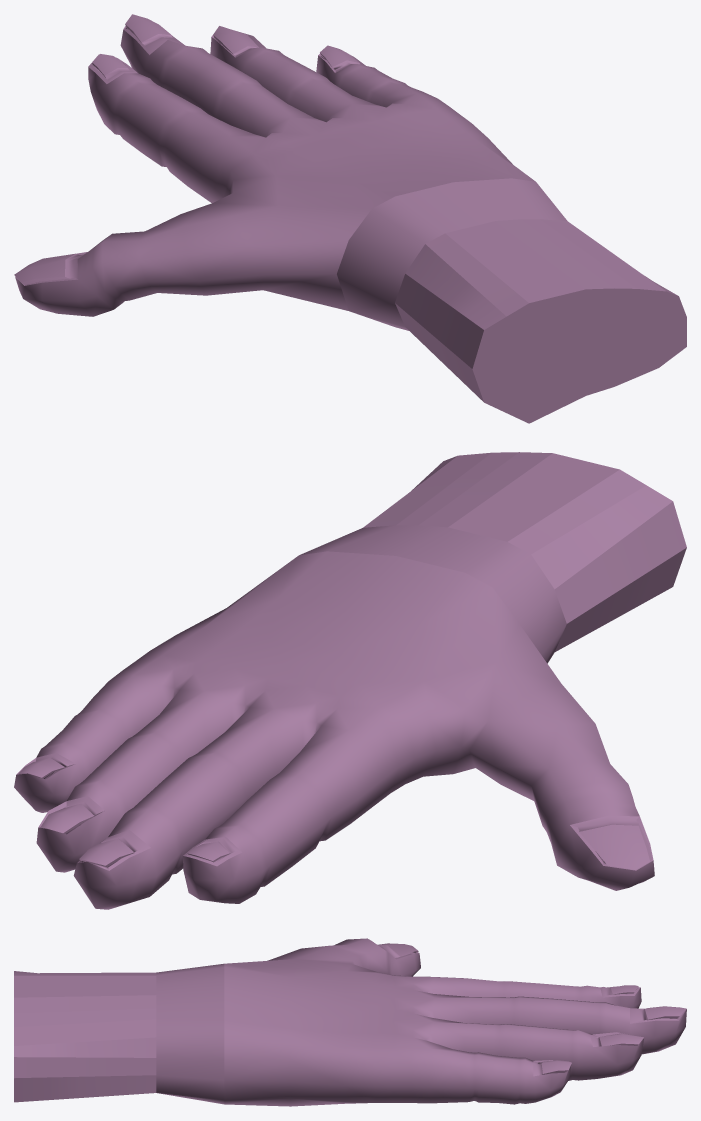
Rendered from right_hand.obj.
The picture shows the model from 3 angles, top to bottom: view 1: azimuth 30°, elevation 25°; view 2: azimuth 150°, elevation 25°; view 3: azimuth 270°, elevation 25°; orthographic projection. The views are drawn at different scales.
Parts seen in each view (by area): view 1: Right_Hand_pCube2; view 2: Right_Hand_pCube2; view 3: Right_Hand_pCube2.
Boxes of the visible parts, x1,y1,x2,y2 form: Right_Hand_pCube2: (14,14,686,423); Right_Hand_pCube2: (14,452,686,909); Right_Hand_pCube2: (14,938,686,1106).
Size of the model in its own units: 10.66 by 3.06 by 17.58.
